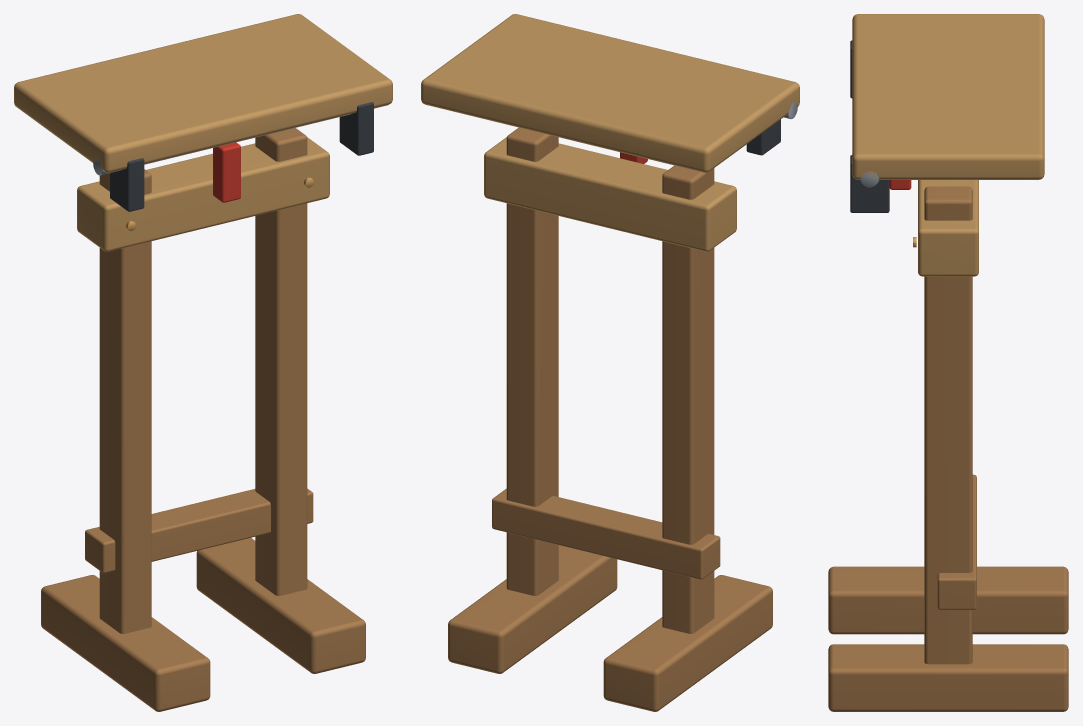
The model's file is ks-target-station.glb.
The picture shows the model from 3 angles, left to right: view 1: azimuth 30°, elevation 25°; view 2: azimuth 150°, elevation 25°; view 3: azimuth 270°, elevation 25°; orthographic projection. The views are drawn at different scales.
Parts seen in each view (by area): view 1: folding_platform, upright.001, upright, station_crossbar, station_foot, station_foot.001, station_lower_brace, latch, hinge_mount, hinge_mount.001; view 2: folding_platform, upright, upright.001, station_crossbar, station_foot, station_foot.001, station_lower_brace, hinge_mount; view 3: folding_platform, upright.001, station_foot.001, station_foot, station_crossbar, station_lower_brace, hinge_mount.001.
Boxes of the visible parts, left/top/right/bottom form: folding_platform: left=14, top=14, right=392, bottom=172; upright.001: left=255, top=128, right=307, bottom=595; upright: left=99, top=169, right=151, bottom=633; station_crossbar: left=77, top=137, right=329, bottom=251; station_foot: left=41, top=575, right=210, bottom=711; station_foot.001: left=196, top=538, right=365, bottom=673; station_lower_brace: left=85, top=488, right=313, bottom=573; latch: left=213, top=142, right=240, bottom=202; hinge_mount: left=110, top=158, right=144, bottom=211; hinge_mount.001: left=339, top=102, right=373, bottom=155; folding_platform: left=421, top=14, right=799, bottom=172; upright: left=662, top=165, right=714, bottom=633; upright.001: left=506, top=127, right=558, bottom=595; station_crossbar: left=484, top=137, right=736, bottom=251; station_foot: left=603, top=575, right=772, bottom=711; station_foot.001: left=448, top=545, right=617, bottom=673; station_lower_brace: left=492, top=488, right=720, bottom=579; hinge_mount: left=746, top=119, right=780, bottom=155; folding_platform: left=852, top=14, right=1044, bottom=179; upright.001: left=924, top=186, right=972, bottom=664; station_foot.001: left=828, top=644, right=1068, bottom=711; station_foot: left=828, top=566, right=1068, bottom=634; station_crossbar: left=918, top=180, right=978, bottom=276; station_lower_brace: left=937, top=474, right=976, bottom=609; hinge_mount.001: left=850, top=155, right=889, bottom=212.
Size of the model in its own units: 0.78 by 1.46 by 0.55.
